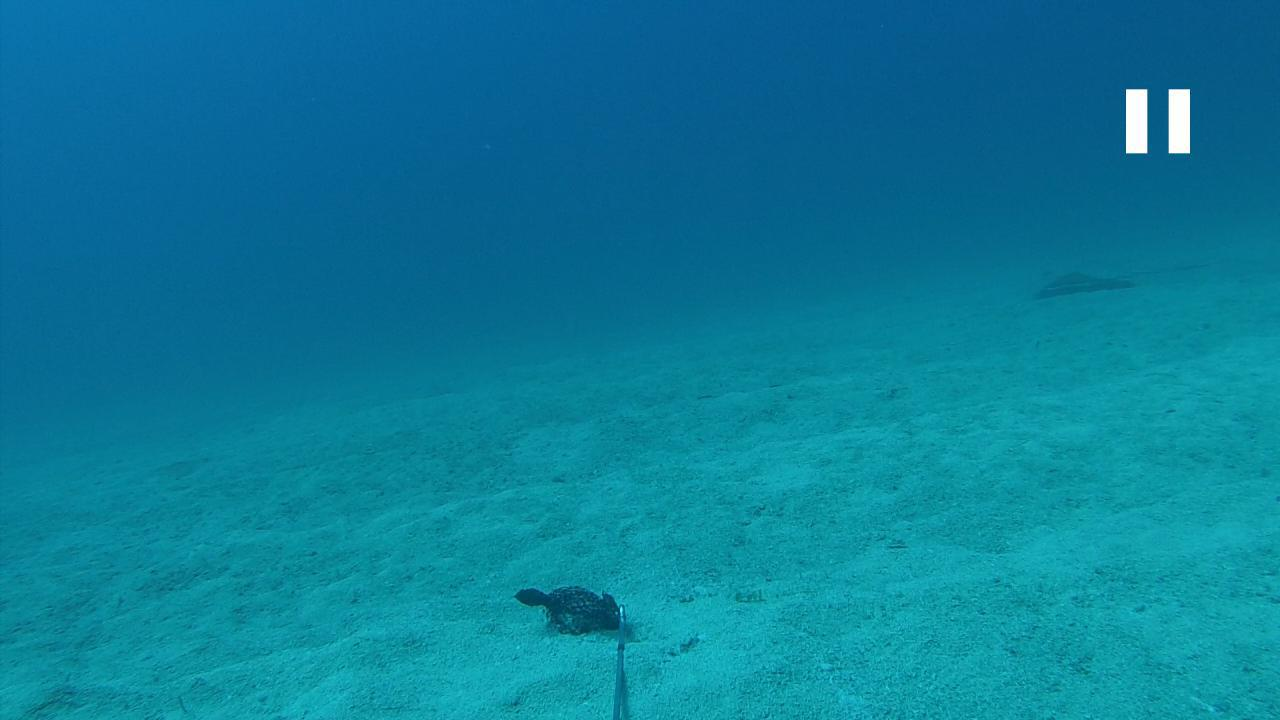dasyatis: (1026, 260, 1212, 294)
